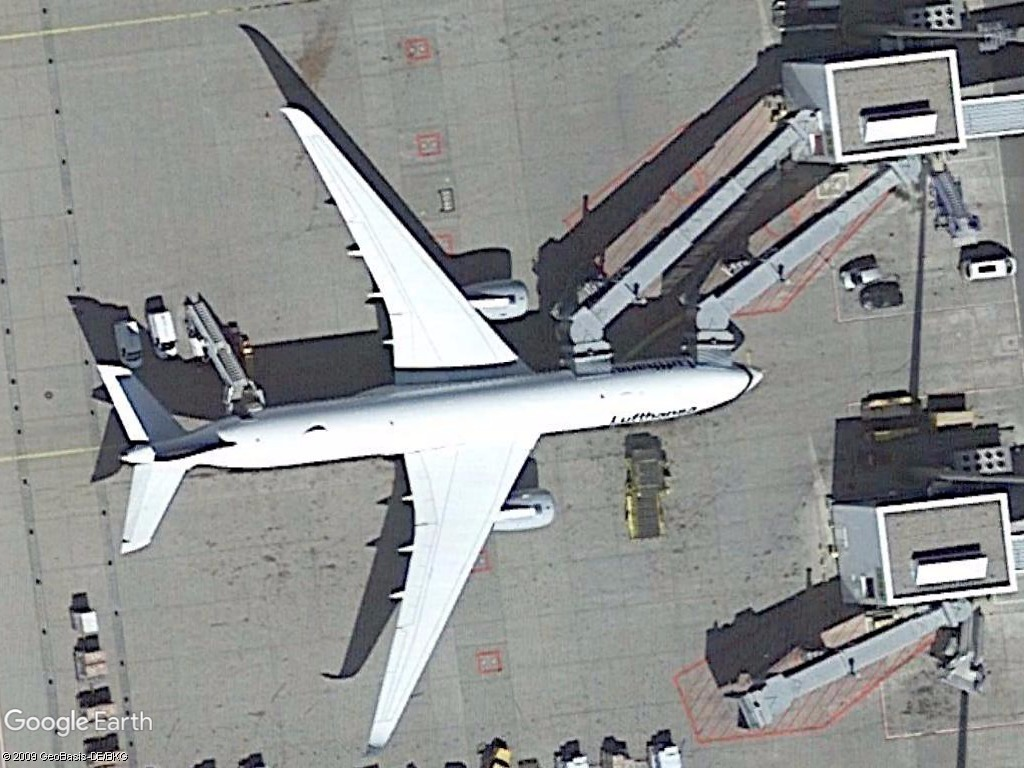airliner: (72, 97, 768, 753)
van: (147, 307, 181, 364), (114, 316, 148, 372)
